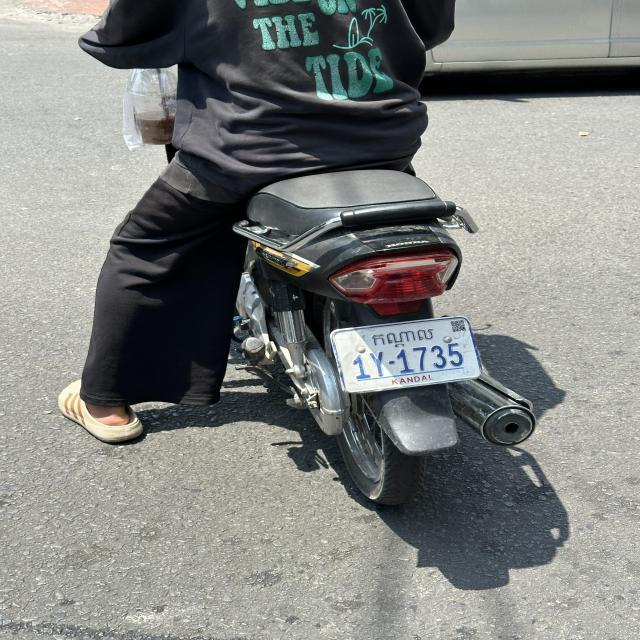Kandal: (370, 327, 434, 349)
